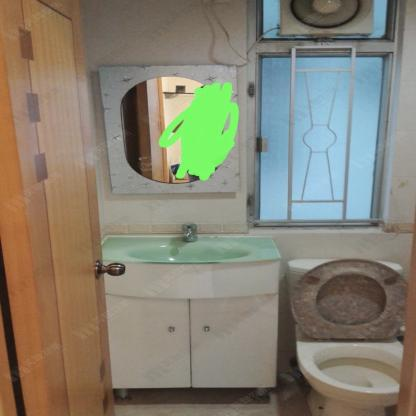Exhaust Fan: (277, 0, 377, 39)
Faucet: (178, 221, 199, 245)
Toilet: (284, 253, 410, 416)
Toilet Sink: (102, 235, 280, 267)
